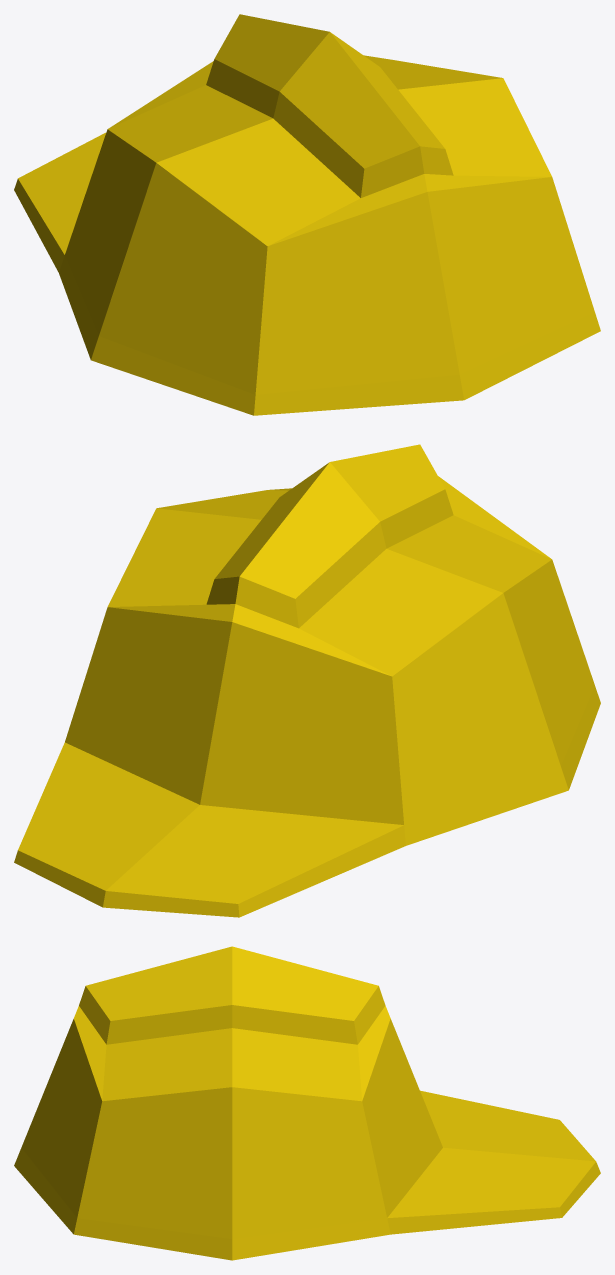
Rendered from Hardhat.glb.
The picture shows the model from 3 angles, top to bottom: view 1: azimuth 30°, elevation 25°; view 2: azimuth 150°, elevation 25°; view 3: azimuth 270°, elevation 25°; orthographic projection. The views are drawn at different scales.
Parts seen in each view (by area): view 1: HardHat; view 2: HardHat; view 3: HardHat.
Part boxes in pixels (x1=…): HardHat: x1=14, y1=14, x2=600, y2=415; HardHat: x1=14, y1=444, x2=600, y2=917; HardHat: x1=14, y1=946, x2=600, y2=1260.
Bounding box in the file's own units: 0.3403 × 0.19 × 0.4457.
